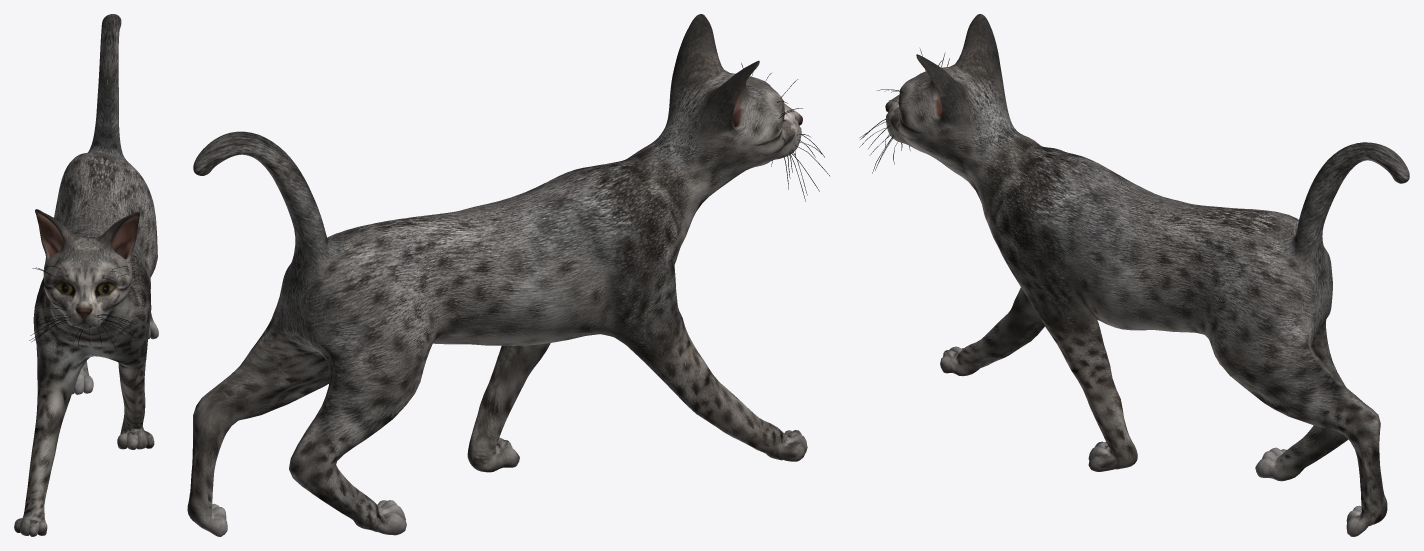
The model's file is walkingcat2.gltf.
3 views of the same model, side by side, from view 1: azimuth 30°, elevation 25°; view 2: azimuth 150°, elevation 25°; view 3: azimuth 270°, elevation 25° (orthographic). The views are drawn at different scales.
Bounding box in the file's own units: 0.3135 × 0.3085 × 0.4103.
Materials: 2 (2 with a texture image).
